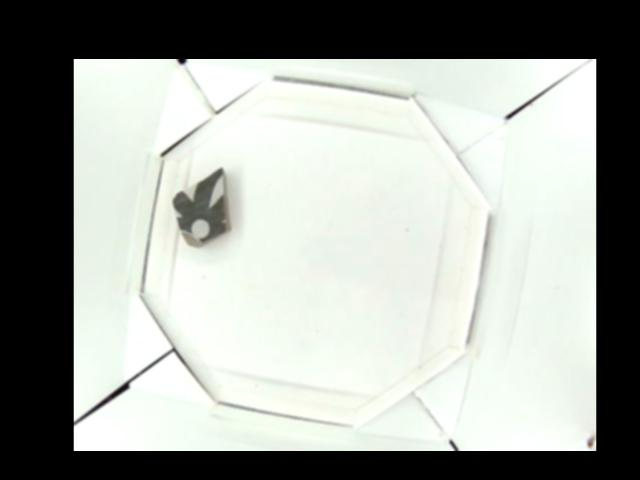China: (169, 166, 232, 244)
